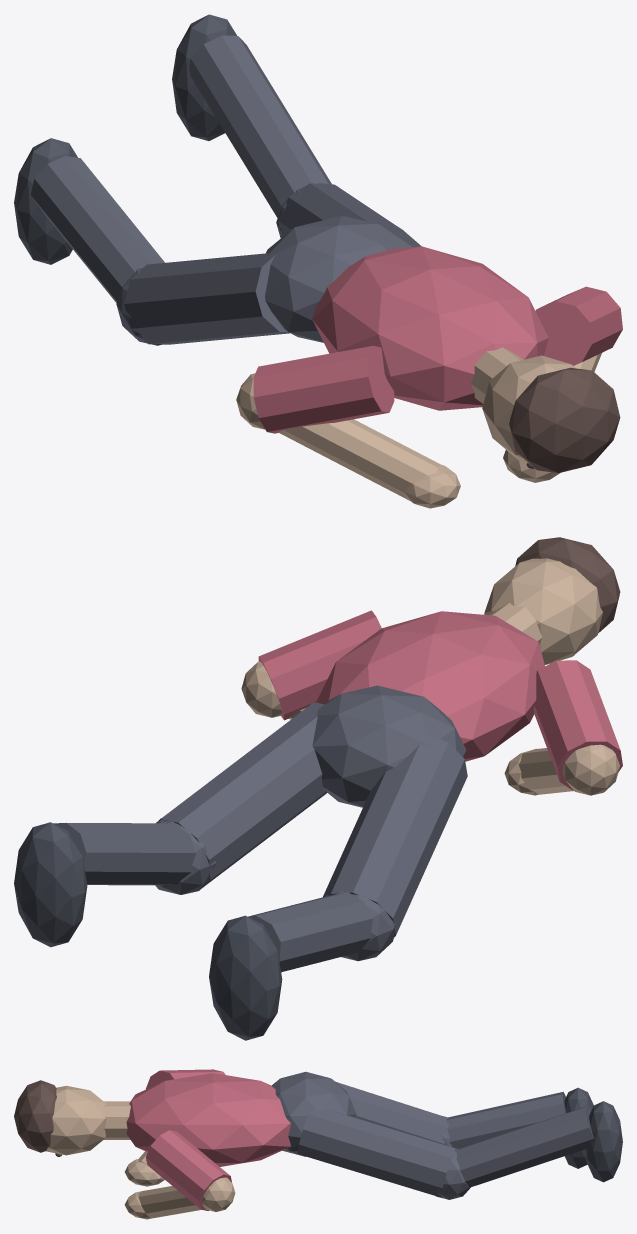
3 renders of one model, top to bottom at view 1: azimuth 30°, elevation 25°; view 2: azimuth 150°, elevation 25°; view 3: azimuth 270°, elevation 25°, orthographic. The views are drawn at different scales.
Visible parts, largest first — view 1: world; view 2: world; view 3: world.
Part boxes in pixels (<box>): world: <box>14,14,622,508</box>; world: <box>14,537,622,1040</box>; world: <box>14,1069,622,1219</box>.
Size of the model in its own units: 0.93 by 0.4628 by 2.04.
